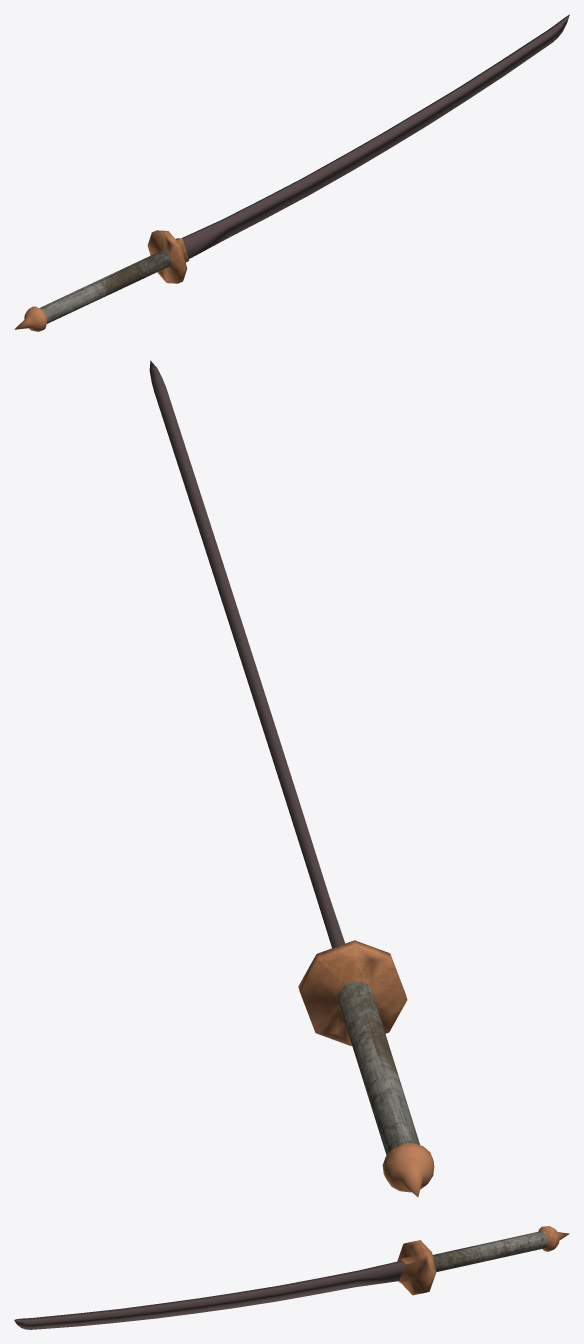
The model's file is Anim_idle_katana_objetos.0047.obj.
The picture shows the model from 3 angles, top to bottom: view 1: azimuth 90°, elevation 25°; view 2: azimuth 150°, elevation 25°; view 3: azimuth 270°, elevation 25°; orthographic projection. The views are drawn at different scales.
Visible parts, largest first — view 1: Katana1; view 2: Katana1; view 3: Katana1.
Boxes of the visible parts, box(x1,y1,x2,y2) form: Katana1: box(14, 14, 569, 331); Katana1: box(149, 360, 434, 1197); Katana1: box(14, 1226, 569, 1329).
Bounding box in the file's own units: 3.43 × 0.9826 × 4.01.
